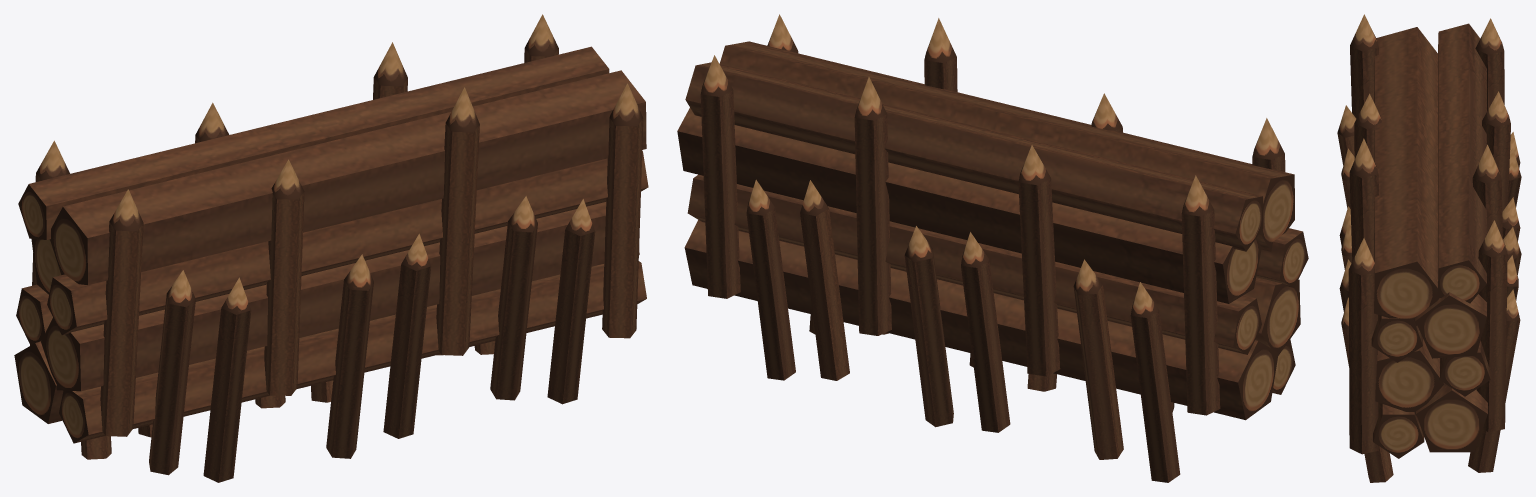
Rendered from lvl2_1x3.fbx.
3 views of the same model, side by side, from view 1: azimuth 30°, elevation 25°; view 2: azimuth 150°, elevation 25°; view 3: azimuth 270°, elevation 25° (orthographic). The views are drawn at different scales.
Parts seen in each view (by area): view 1: polySurface349; view 2: polySurface349; view 3: polySurface349.
Boxes of the visible parts, left/top/right/bottom form: polySurface349: left=14, top=14, right=648, bottom=482; polySurface349: left=677, top=14, right=1308, bottom=482; polySurface349: left=1337, top=14, right=1521, bottom=482.
Bounding box in the file's own units: 29.03 × 16.58 × 9.24.
